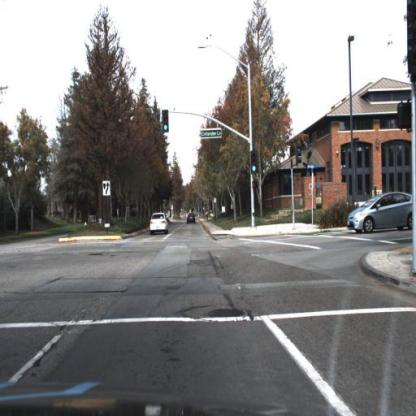biker: (205, 208, 210, 222)
car: (348, 191, 416, 235), (348, 191, 415, 235), (149, 212, 171, 239), (185, 211, 197, 227)
trafficLight-Green: (162, 108, 171, 136), (162, 108, 170, 135), (250, 150, 258, 175)
